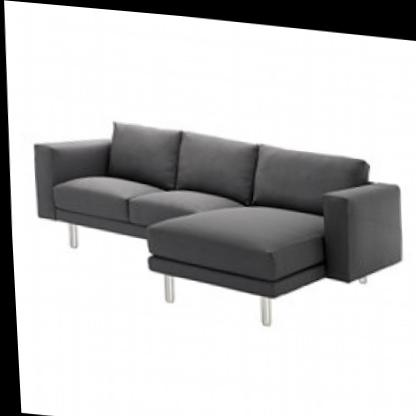Sofa: (15, 94, 410, 337)
